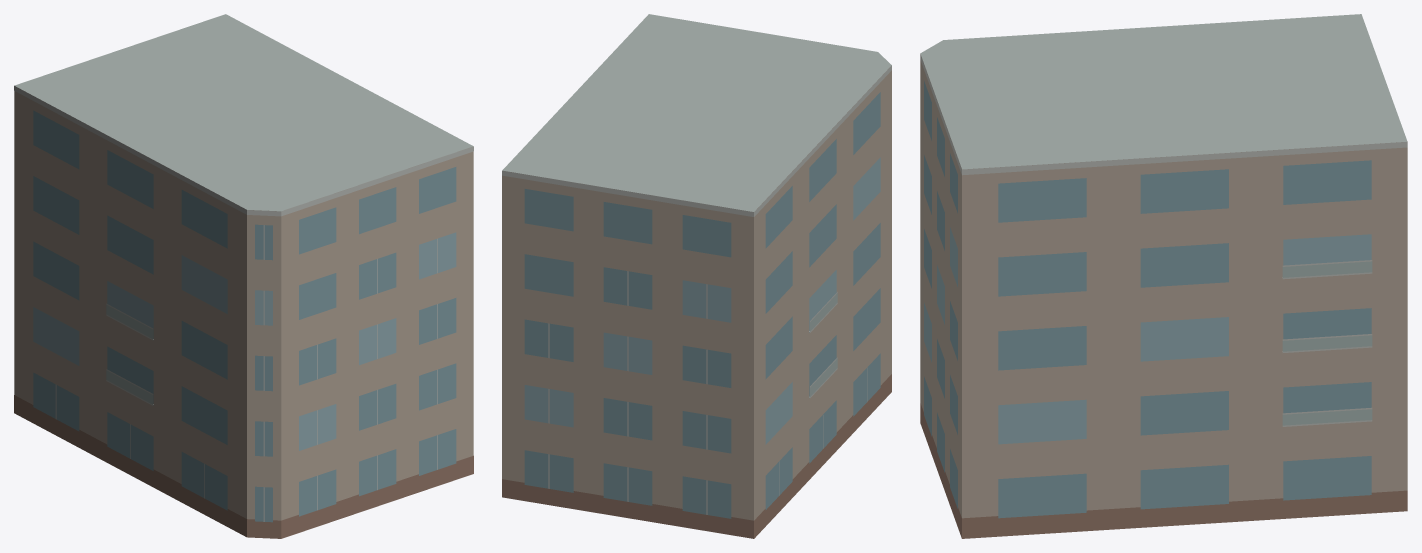
The model's file is survey-upis-32918654.glb.
3 views of the same model, side by side, from view 1: azimuth 30°, elevation 25°; view 2: azimuth 150°, elevation 25°; view 3: azimuth 270°, elevation 25° (orthographic). The views are drawn at different scales.
Parts seen in each view (by area): view 1: survey-upis-32918654.tmp; view 2: survey-upis-32918654.tmp; view 3: survey-upis-32918654.tmp.
Part boxes in pixels (box(x1,y1,x2,y2)): survey-upis-32918654.tmp: box(14, 14, 473, 538); survey-upis-32918654.tmp: box(502, 14, 891, 538); survey-upis-32918654.tmp: box(920, 14, 1407, 538).
Size of the model in its own units: 14.18 by 15.7 by 18.78.
